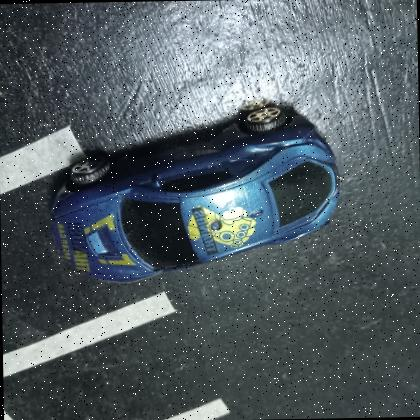Car: (50, 106, 340, 282)
